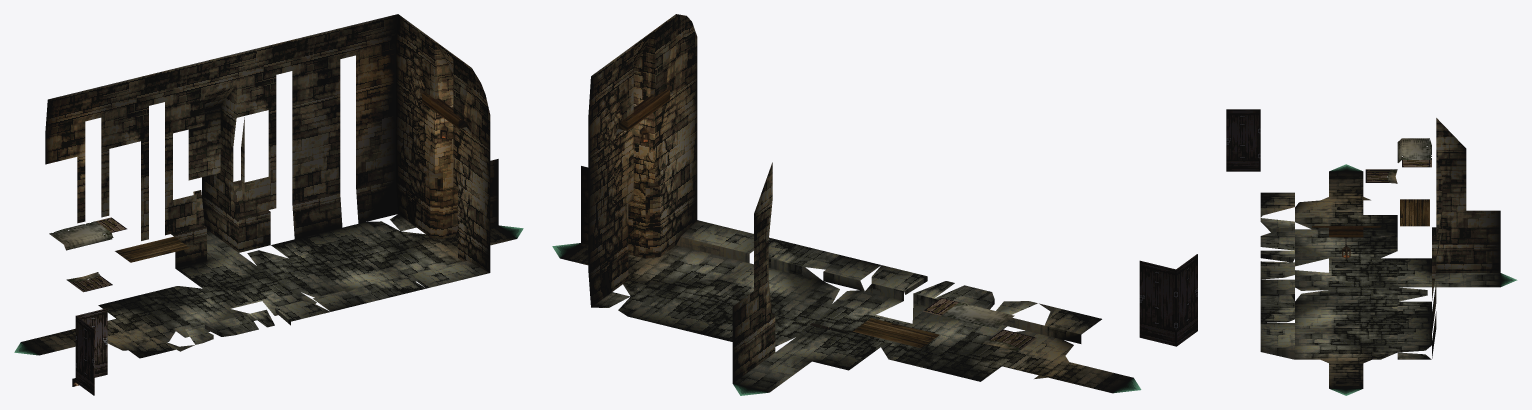
Rendered from MAP110.gltf.
The picture shows the model from 3 angles, left to right: view 1: azimuth 30°, elevation 25°; view 2: azimuth 150°, elevation 25°; view 3: azimuth 270°, elevation 25°; orthographic projection. The views are drawn at different scales.
Bounding box in the file's own units: 205 × 78.2 × 109.
Materials: 20 (20 with a texture image).
